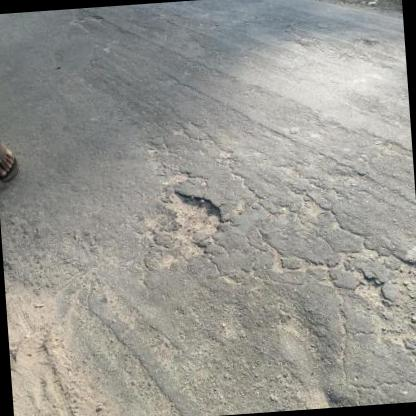pothole: (158, 185, 226, 254), (354, 274, 390, 310)
